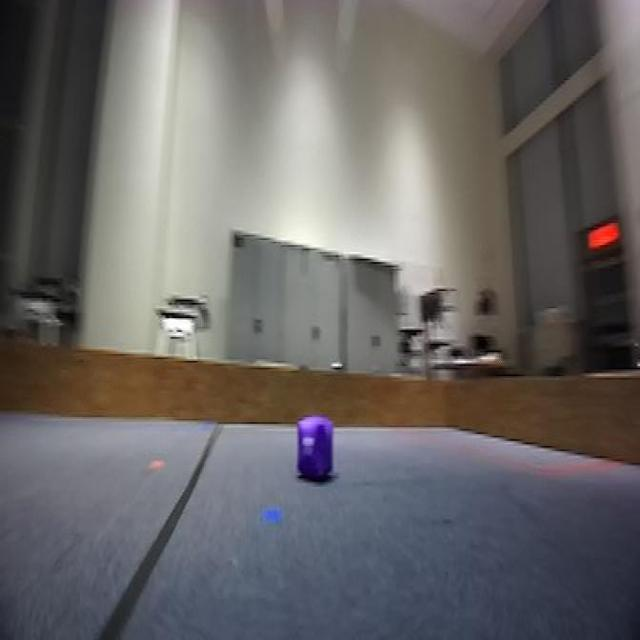frc_cube: (297, 422, 335, 487)
